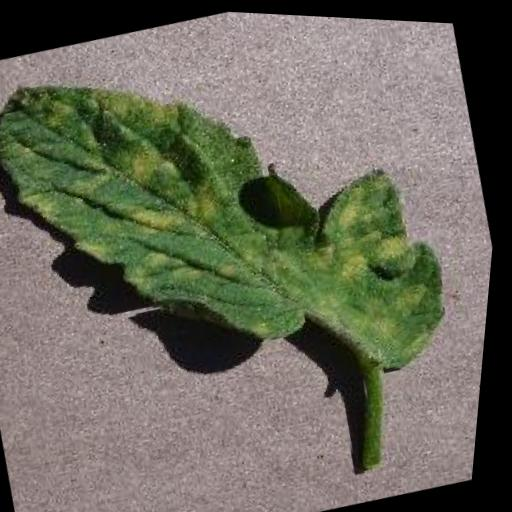Leaf Mold: (0, 0, 483, 455)
